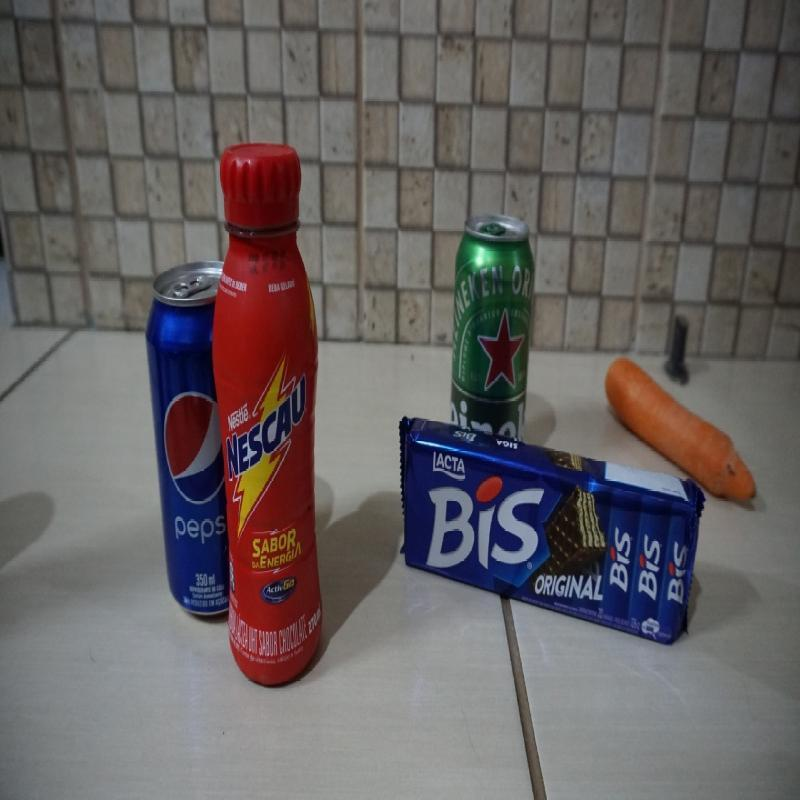Beer can: (447, 213, 535, 444)
Carrot: (605, 358, 756, 503)
Chocolate Milk: (211, 144, 323, 686)
Soda can: (144, 259, 230, 621)
